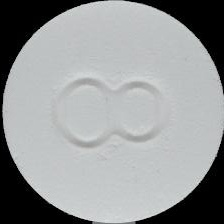53808-0361: (0, 0, 224, 224)
